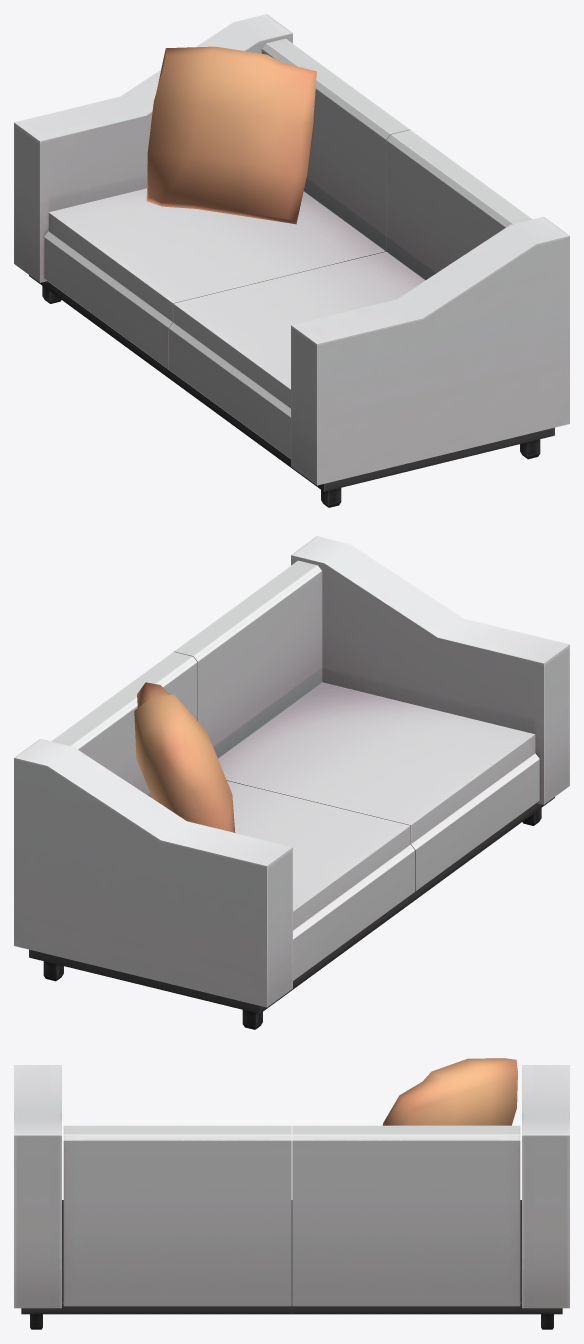
Rendered from sofa.glb.
3 renders of one model, top to bottom at view 1: azimuth 30°, elevation 25°; view 2: azimuth 150°, elevation 25°; view 3: azimuth 270°, elevation 25°, orthographic. The views are drawn at different scales.
Parts seen in each view (by area): view 1: my_gamecenter_01_p_sofa_01; view 2: my_gamecenter_01_p_sofa_01; view 3: my_gamecenter_01_p_sofa_01.
Boxes of the visible parts, bbox=[...] form: my_gamecenter_01_p_sofa_01: bbox=[14, 14, 569, 507]; my_gamecenter_01_p_sofa_01: bbox=[14, 536, 569, 1029]; my_gamecenter_01_p_sofa_01: bbox=[14, 1058, 569, 1329].
Size of the model in its own units: 0.5722 by 0.5425 by 1.19.
Materials: 1 (1 with a texture image).
